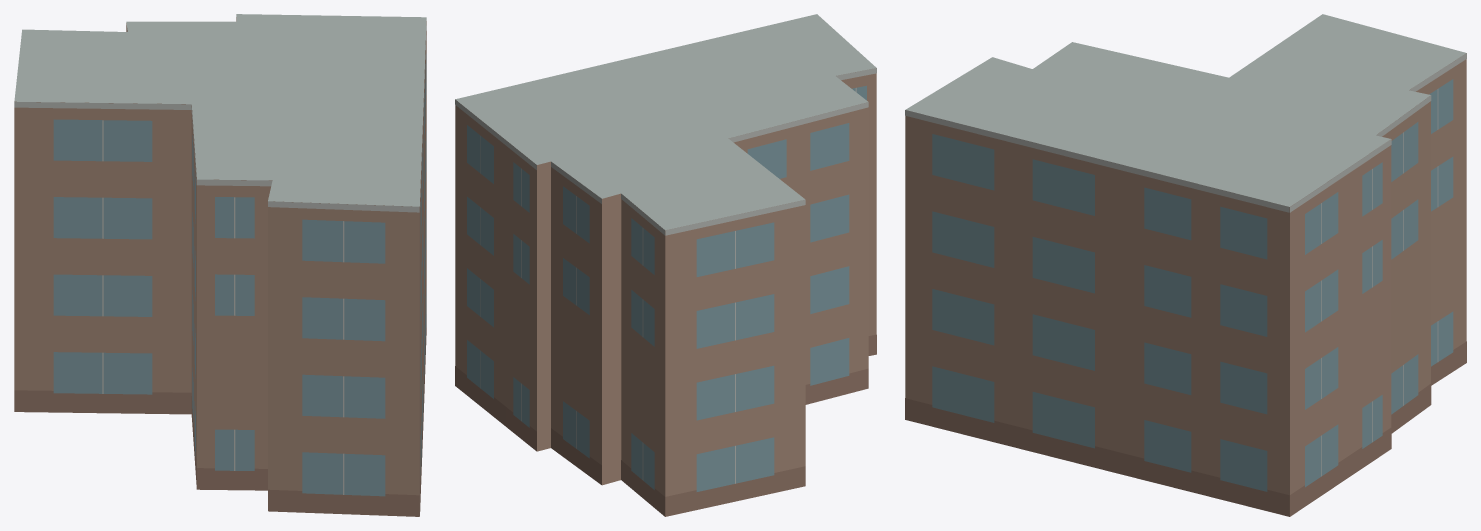
The model's file is survey-upis-32963892.glb.
3 renders of one model, left to right at view 1: azimuth 30°, elevation 25°; view 2: azimuth 150°, elevation 25°; view 3: azimuth 270°, elevation 25°, orthographic. The views are drawn at different scales.
Visible parts, largest first — view 1: survey-upis-32963892.tmp; view 2: survey-upis-32963892.tmp; view 3: survey-upis-32963892.tmp.
Part boxes in pixels (<box>): survey-upis-32963892.tmp: <box>14,14,426,516</box>; survey-upis-32963892.tmp: <box>455,14,876,516</box>; survey-upis-32963892.tmp: <box>905,14,1466,516</box>.
Bounding box in the file's own units: 17.24 × 12.9 × 21.19.
